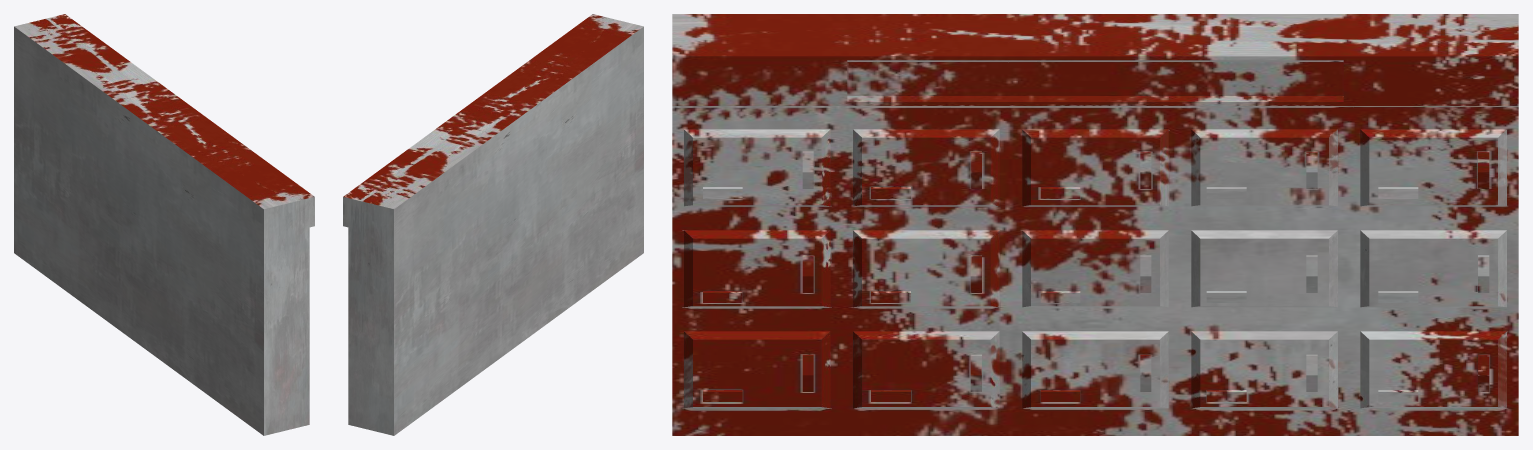
File: mmorgue3 1.fbx
3 renders of one model, left to right at view 1: azimuth 30°, elevation 25°; view 2: azimuth 150°, elevation 25°; view 3: azimuth 270°, elevation 25°, orthographic. The views are drawn at different scales.
Parts seen in each view (by area): view 1: Cube.807; view 2: Cube.807; view 3: Cube.807.
Boxes of the visible parts, x1=… form: Cube.807: x1=14, y1=14, x2=314, y2=435; Cube.807: x1=343, y1=14, x2=643, y2=435; Cube.807: x1=672, y1=14, x2=1518, y2=435.
Bounding box in the file's own units: 85.34 × 345 × 689.
